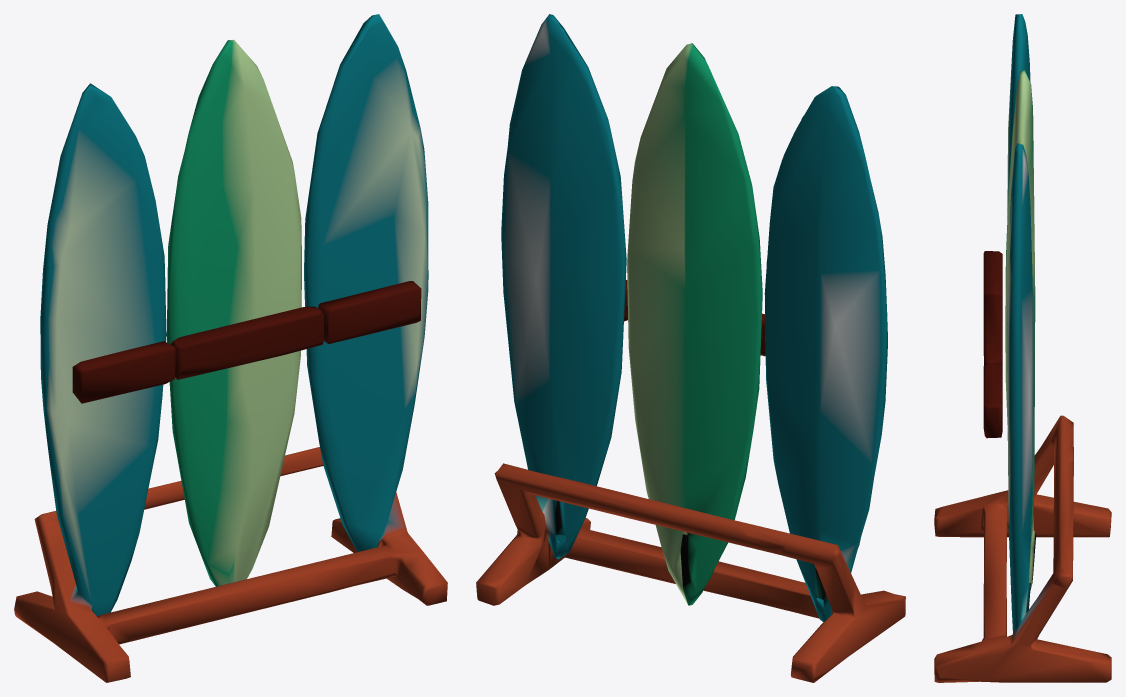
File: gen3d-surf-rack-lod1.glb
3 views of the same model, side by side, from view 1: azimuth 30°, elevation 25°; view 2: azimuth 150°, elevation 25°; view 3: azimuth 270°, elevation 25° (orthographic). The views are drawn at different scales.
Visible parts, largest first — view 1: part_0; view 2: part_0; view 3: part_0.
Part boxes in pixels (<box>): part_0: <box>14,14,447,682</box>; part_0: <box>476,14,905,682</box>; part_0: <box>934,14,1111,682</box>.
Bounding box in the file's own units: 0.7111 × 0.9974 × 0.3.
